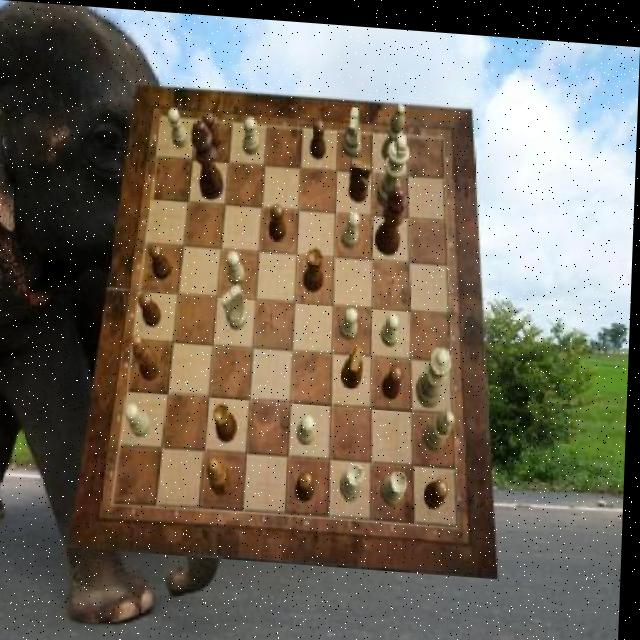bishop: (134, 332, 165, 379), (212, 455, 238, 494)
black-bishop: (192, 118, 228, 198)
black-king: (343, 339, 367, 384), (350, 153, 374, 198)
black-knight: (140, 289, 165, 325), (151, 242, 175, 279), (202, 109, 223, 150), (428, 470, 453, 503), (385, 358, 406, 394), (269, 199, 287, 238), (312, 115, 329, 156), (299, 466, 318, 498)
black-pawn: (376, 179, 409, 252)
black-queen: (215, 399, 240, 441), (306, 242, 328, 288)
black-rook: (382, 96, 407, 158), (426, 402, 458, 446)
white-bishop: (377, 127, 412, 205)
white-king: (221, 280, 250, 327), (344, 100, 363, 154)
white-knight: (126, 400, 154, 436), (168, 106, 192, 147), (228, 246, 248, 282), (244, 113, 262, 152), (383, 306, 402, 342), (343, 206, 361, 243), (300, 409, 320, 441), (342, 302, 360, 335)
white-pawn: (418, 341, 456, 403)
white-queen: (383, 463, 411, 501), (343, 458, 367, 497)
